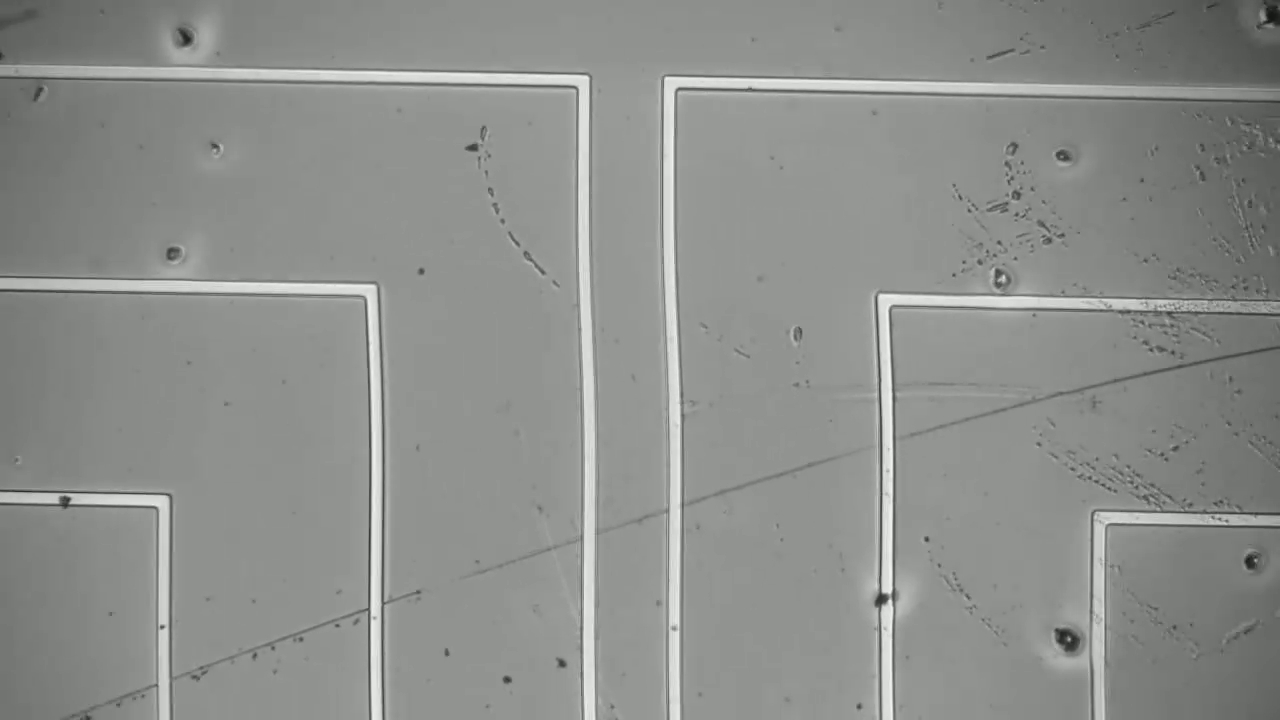scratch: (82, 336, 1274, 710), (468, 130, 566, 287)
stains_enbedded: (864, 573, 903, 620), (53, 484, 76, 515)
